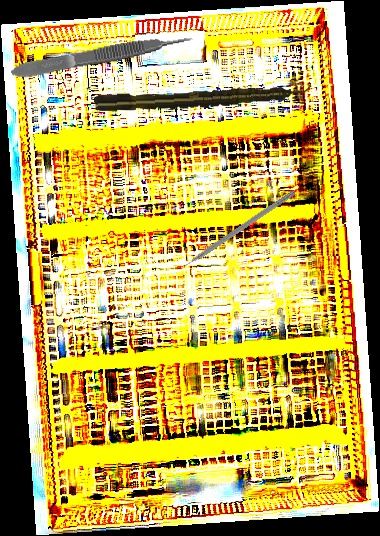Chopper: (171, 183, 296, 274)
Handpiece: (93, 82, 313, 114)
Tissue Forceps: (9, 31, 195, 81)
